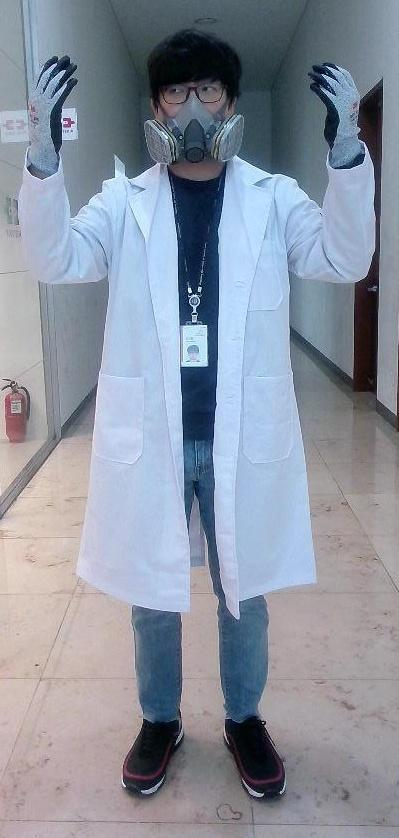lab_coat: (98, 189, 314, 601)
